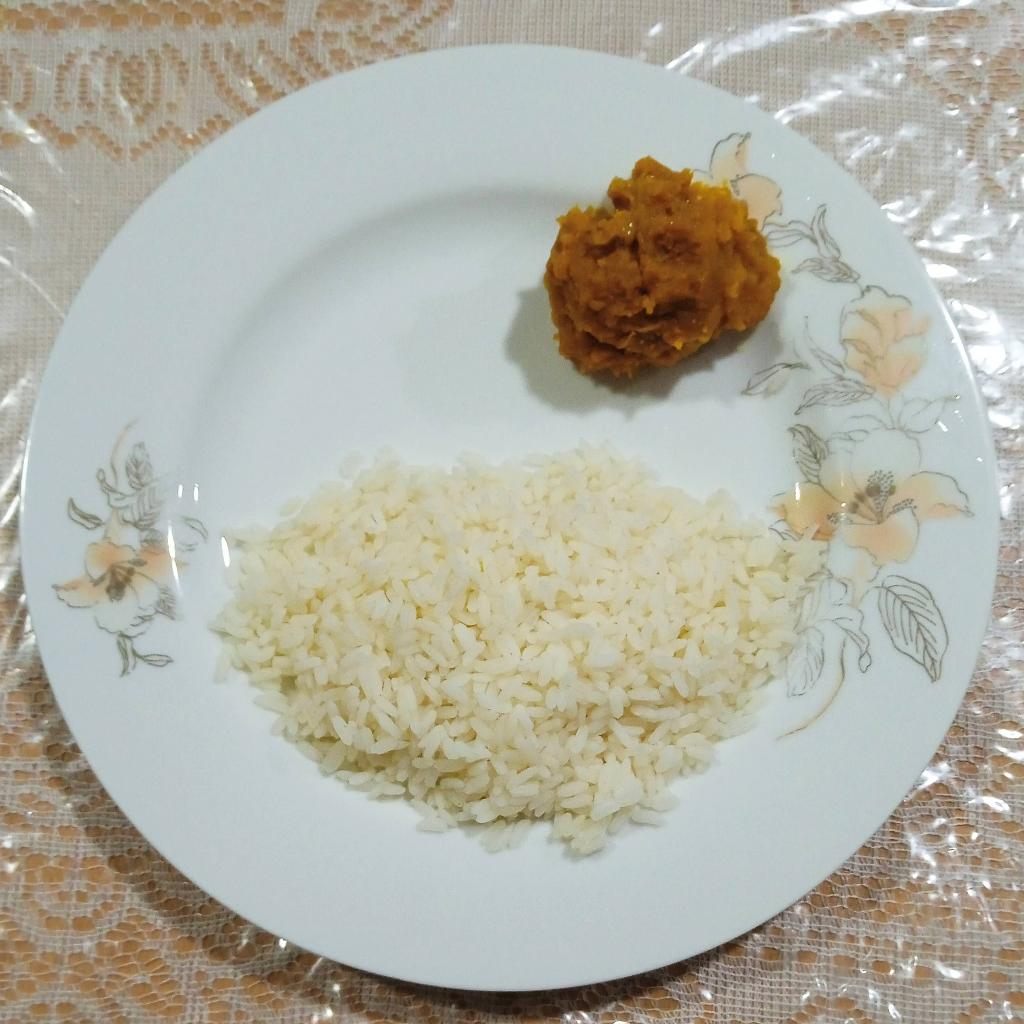kumra-vaji: (550, 159, 783, 380)
rice: (210, 444, 826, 845)
